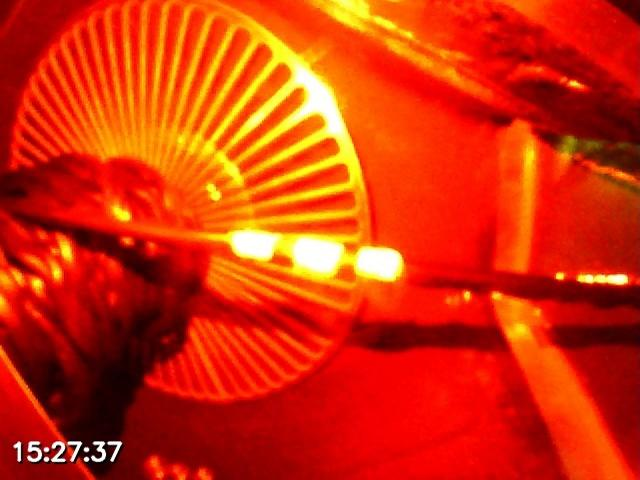white-dots: (229, 228, 403, 283)
